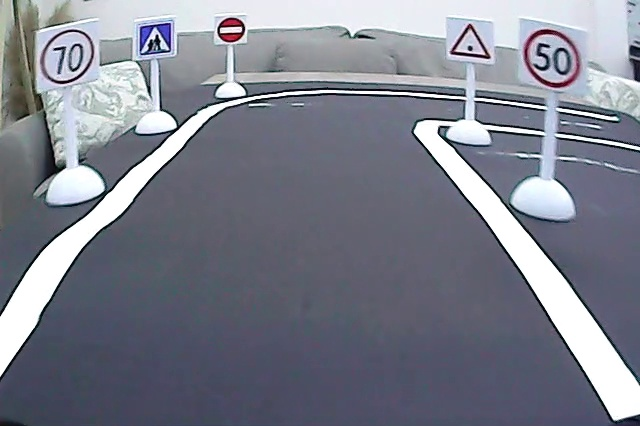do not enter: (215, 16, 247, 43)
green light: (449, 22, 494, 62)
school crossing: (136, 21, 175, 58)
speed limit 50: (519, 26, 584, 91)
speed limit 70: (39, 26, 97, 87)
